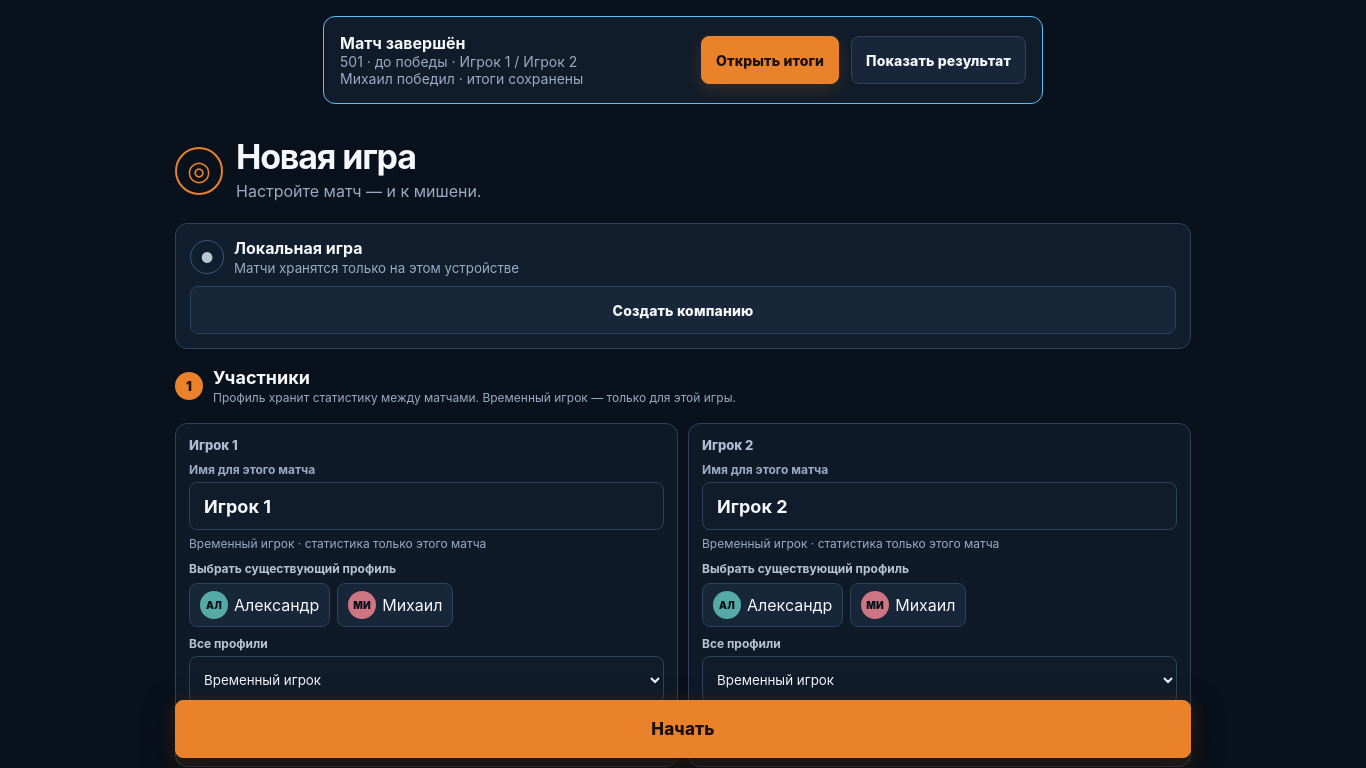
Test: completed active match restore › restores the result screen after reload and keeps final Undo
// DATA-3: у завершённого матча карточка возобновления открывает итоги, а не «продолжает» игру.
Click the button "Открыть итоги". click: (770, 60)
box: [701,36,839,84]
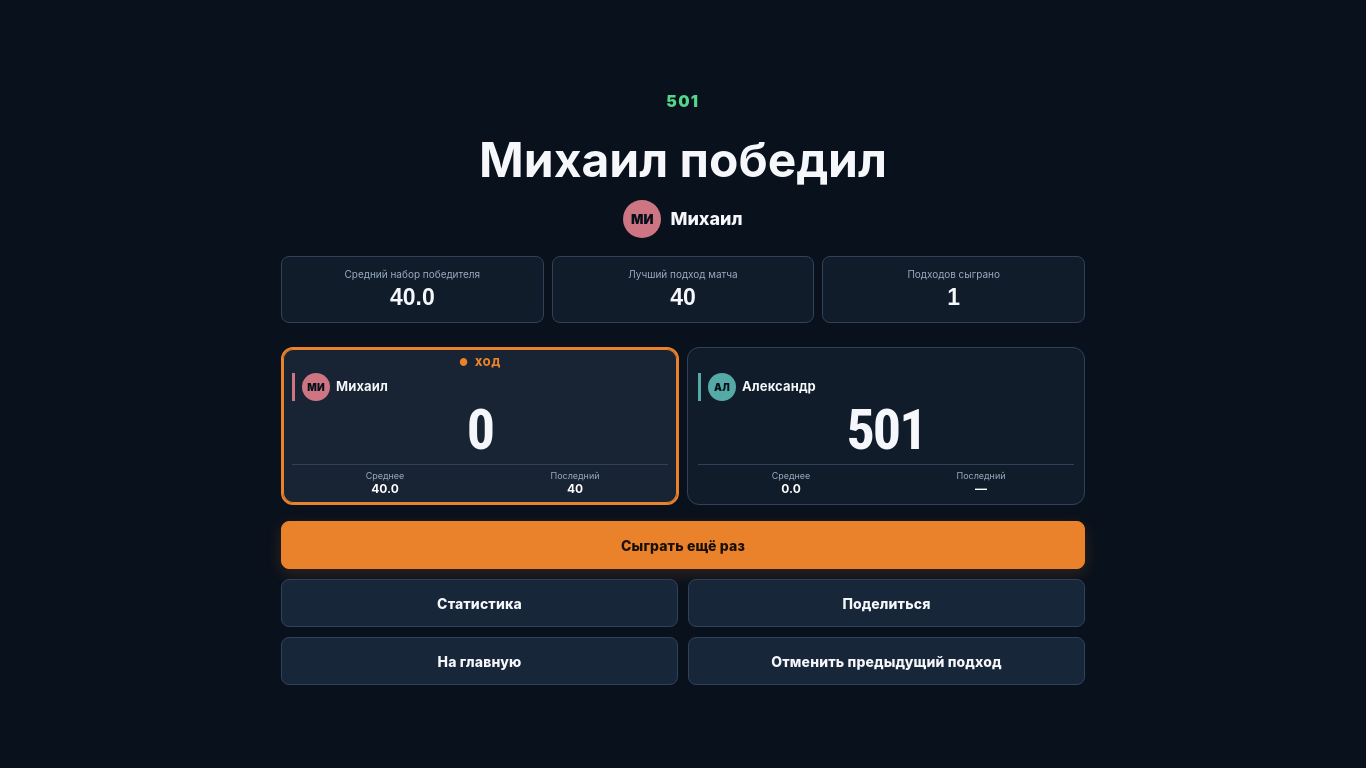
Expected: the heading "Михаил победил" is shown, [479,130,887,189]
Click the button "Отменить предыдущий подход". click: (886, 661)
box: [688,637,1085,685]
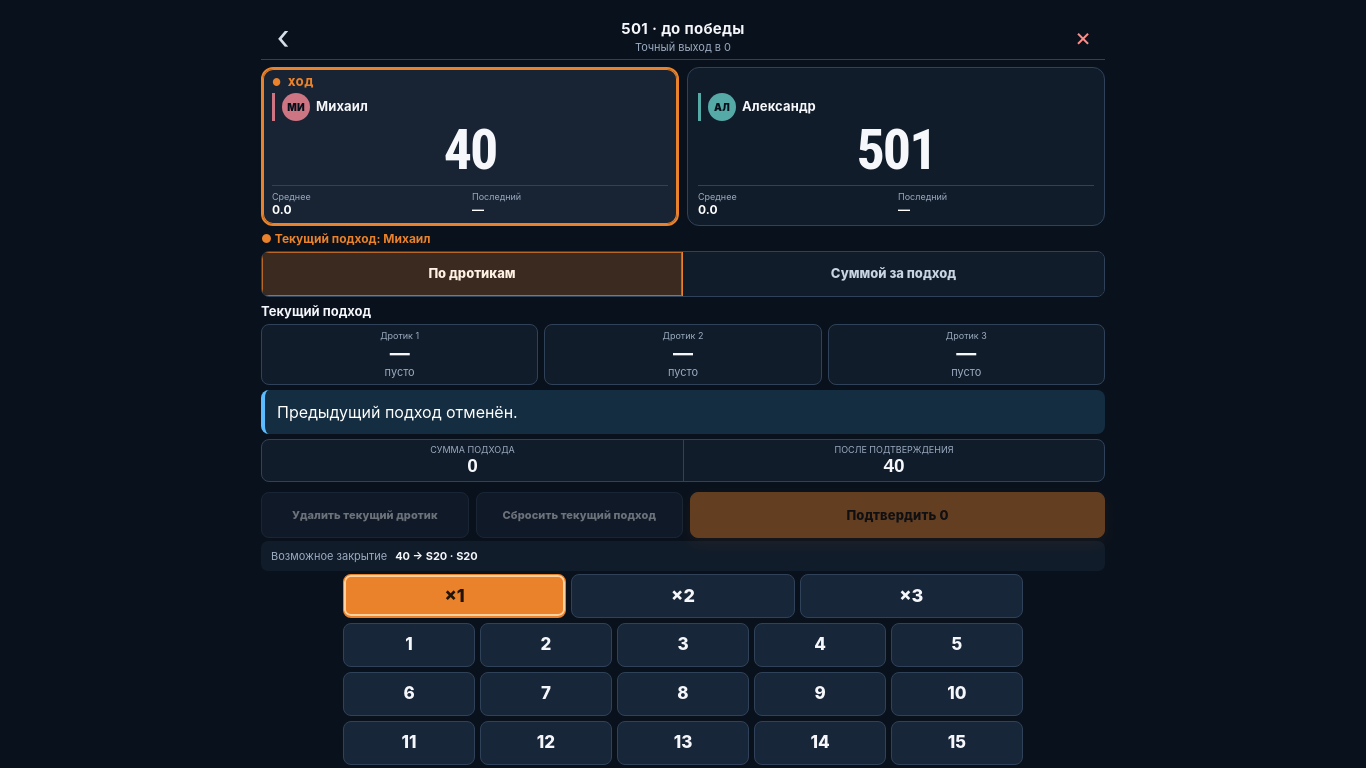
Expected: the text "Предыдущий подход отменён." is shown, [261,390,1105,434]
Expected: the text "40" below "Александр" is shown, [444,117,496,183]
